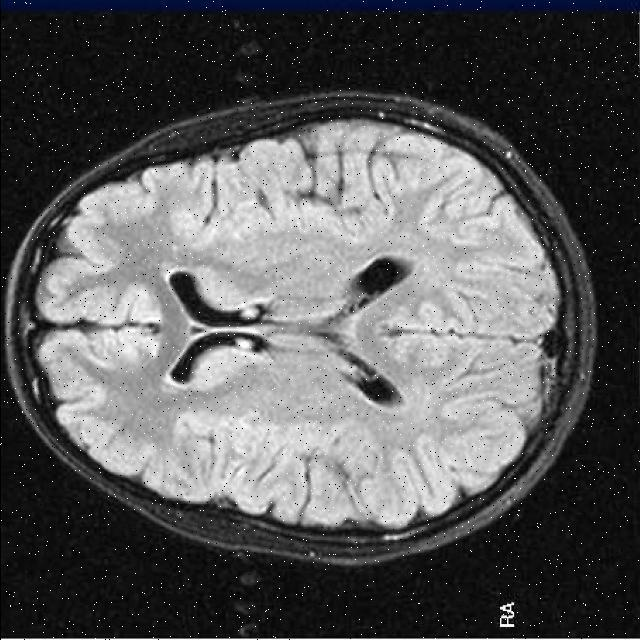No_Tumor: (6, 92, 595, 563)
